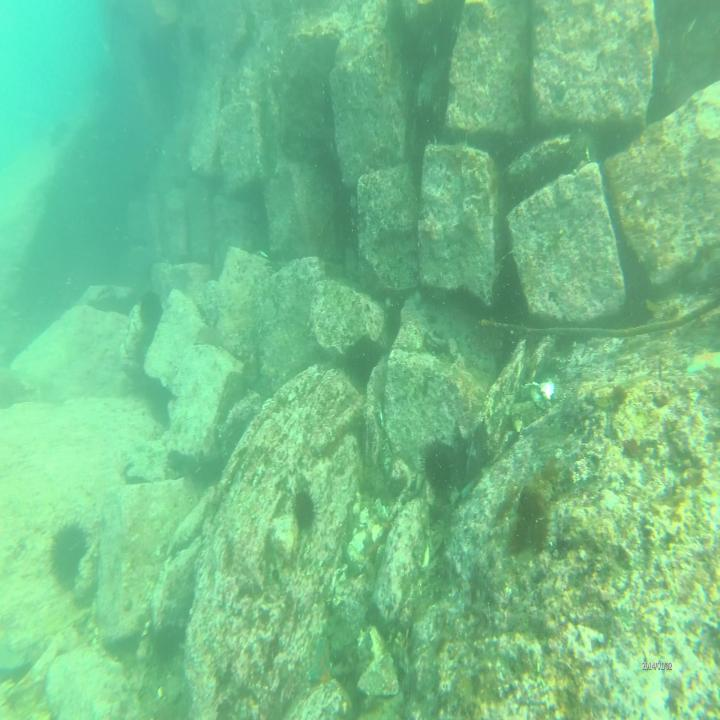echinus: (46, 518, 88, 594), (420, 440, 453, 494), (290, 486, 317, 532), (137, 286, 164, 326)
starfish: (306, 635, 334, 690)
